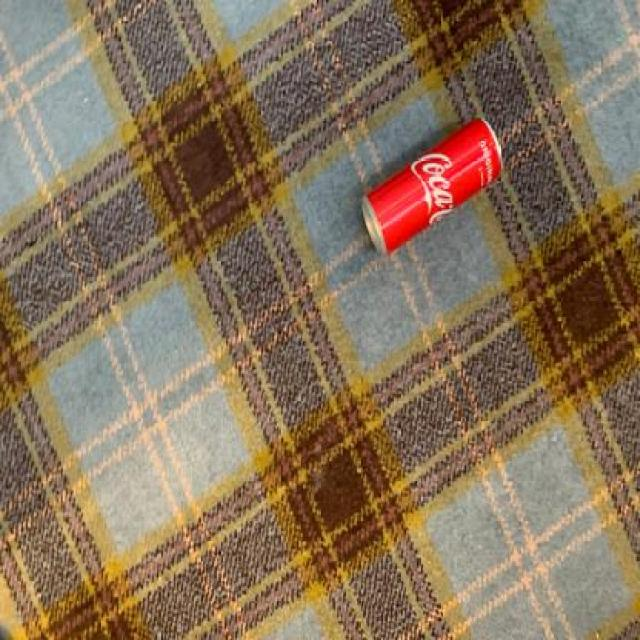Metal: (361, 117, 504, 256)
